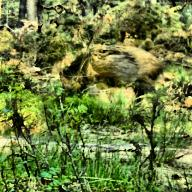boar: (58, 36, 173, 101)
